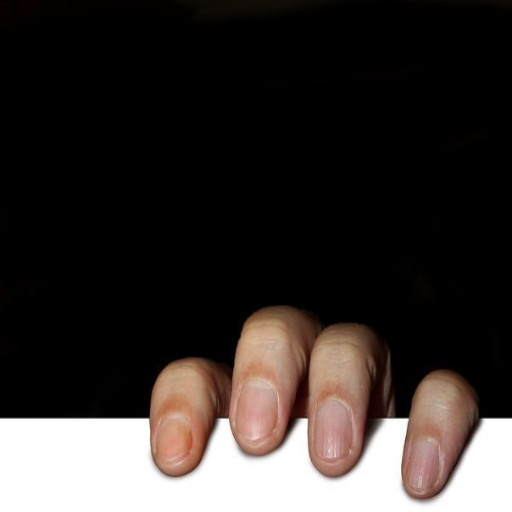hand: (146, 298, 480, 500)
